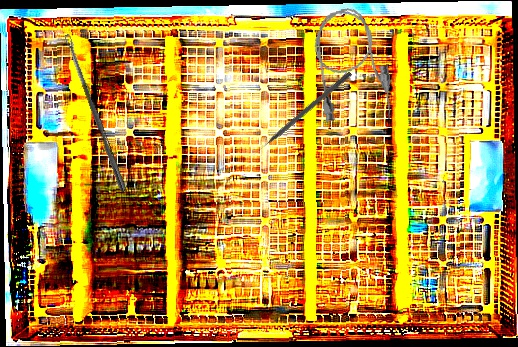Cannula: (306, 3, 398, 130)
Pusher: (250, 70, 353, 157)
Surgical Spoon: (63, 33, 129, 194)
